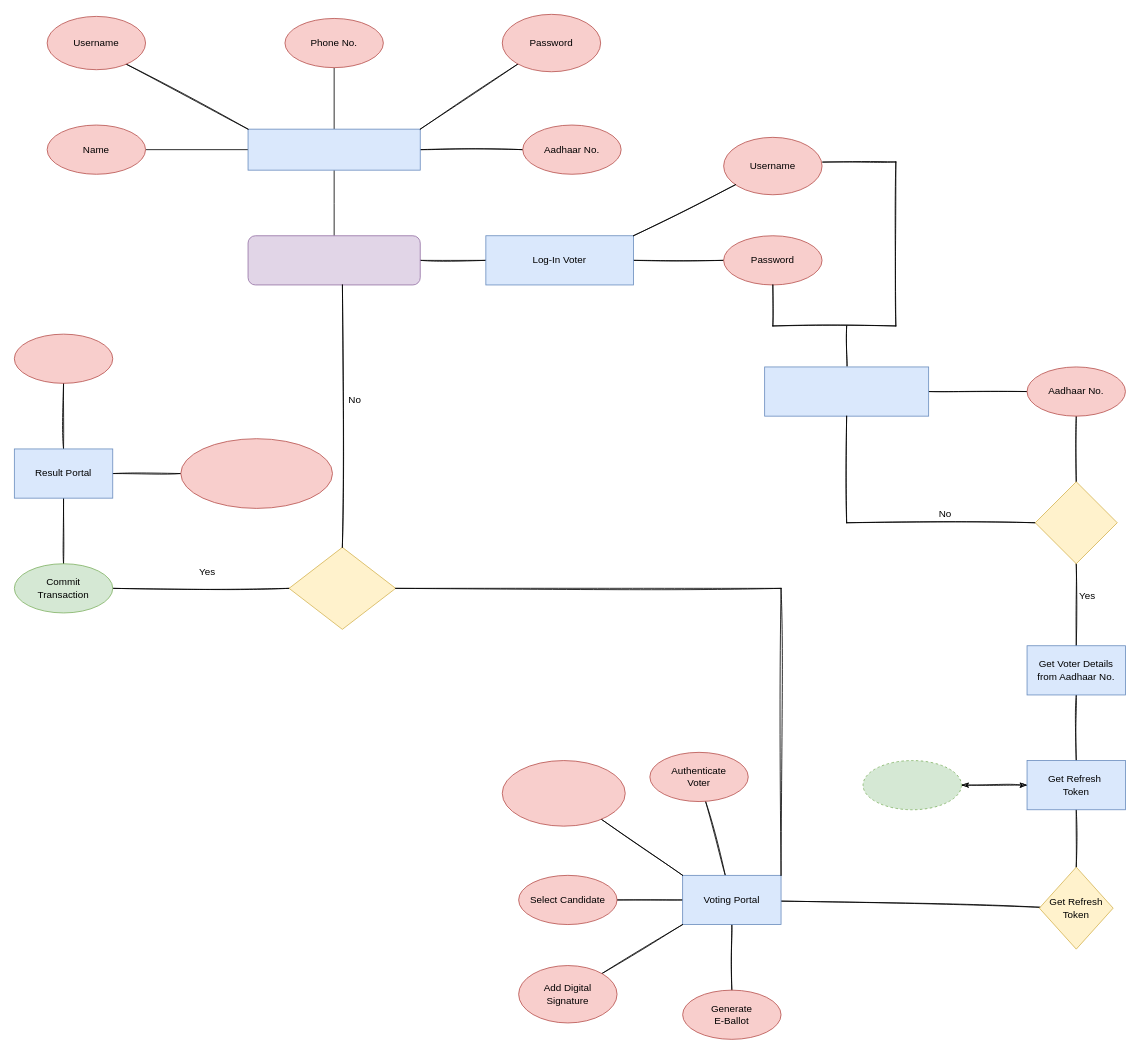
Image size: 1140x1054. Some labels were removed from this diagram. Each missing label, with the centre of its shape:
"Application Portal" goes at pixel 333 260.
"Get and Validate Public Key from MetaMask" goes at pixel 563 793.
"Key Manager" goes at pixel 911 785.
"O.T.P Verification" goes at pixel 1075 522.
"Percentage of peopleVoted vs total People Registered" goes at pixel 256 473.
"Registratin Voter" goes at pixel 333 149.
"Validate Transaction" goes at pixel 342 588.
"Verificatin Portal" goes at pixel 846 391.
"Votes Obtain By every Candidate" goes at pixel 63 358.
